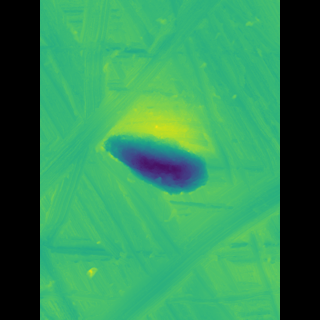Loch: (111, 162, 248, 319), (70, 0, 128, 247), (110, 127, 198, 201)
